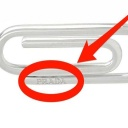Metal: (0, 15, 128, 89)
